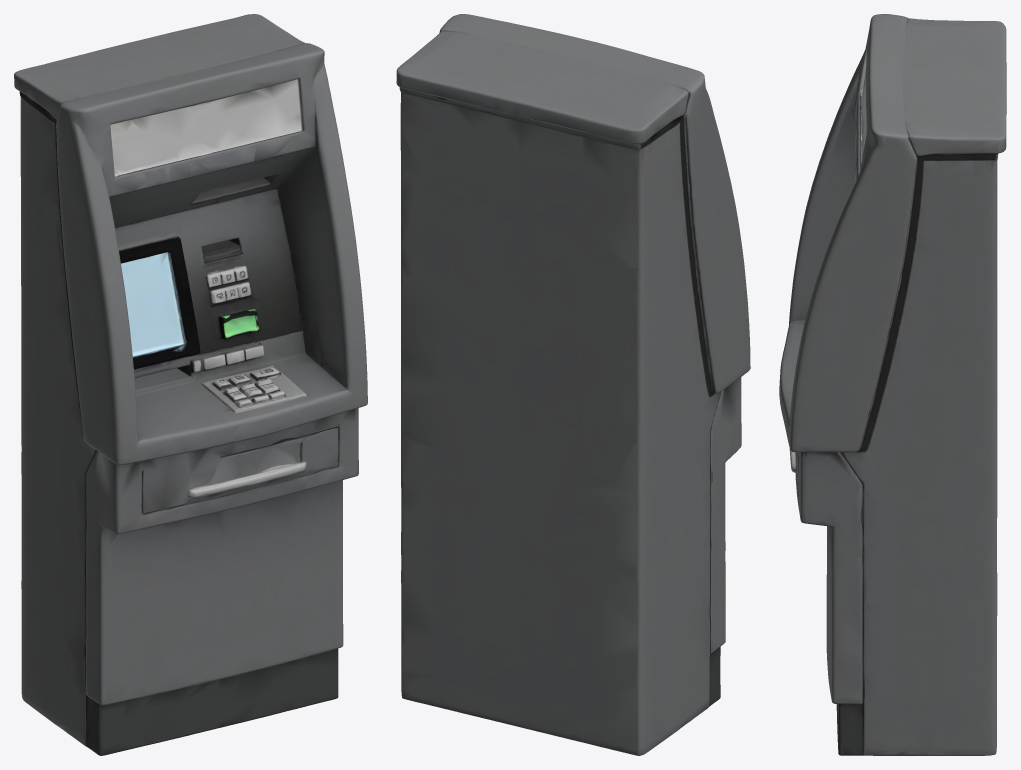
Rendered from atm.glb.
The picture shows the model from 3 angles, left to right: view 1: azimuth 30°, elevation 25°; view 2: azimuth 150°, elevation 25°; view 3: azimuth 270°, elevation 25°; orthographic projection. The views are drawn at different scales.
Parts seen in each view (by area): view 1: geometry_0; view 2: geometry_0; view 3: geometry_0.
Boxes of the visible parts, x1,y1,x2,y2 form: geometry_0: [14, 14, 367, 755]; geometry_0: [396, 14, 750, 755]; geometry_0: [779, 14, 1006, 755].
Size of the model in its own units: 0.7082 by 1.7 by 0.5568.
Materials: 1 (1 with a texture image).
